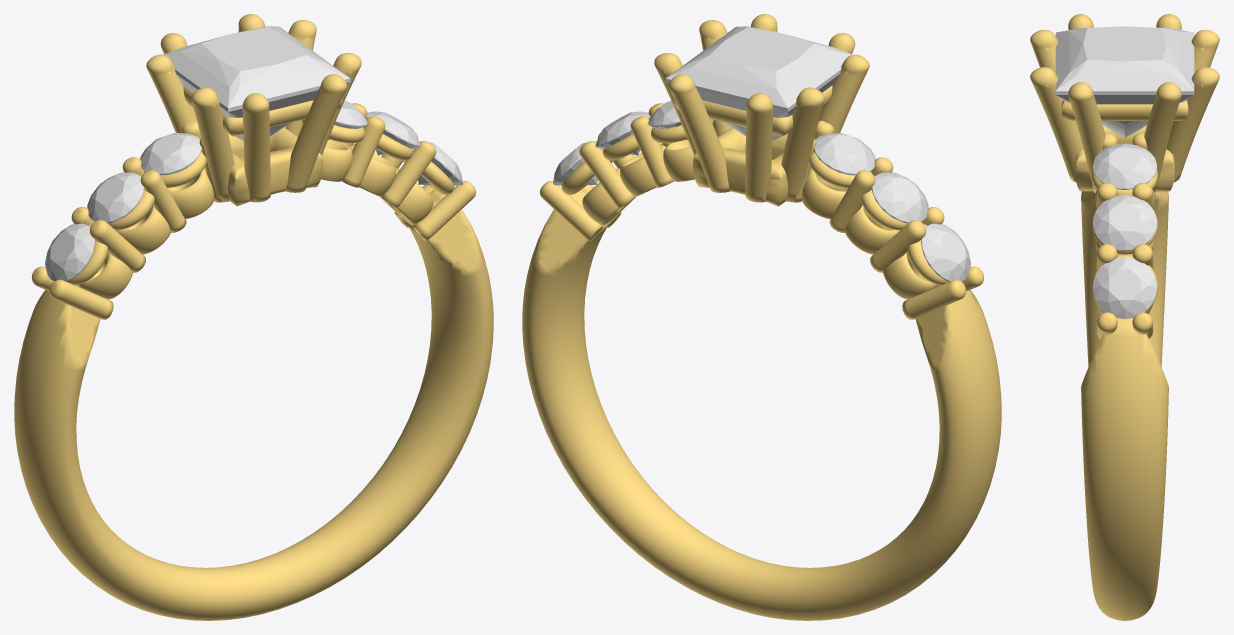
The model's file is diamond-princess-yellowgold-8prong-taperedband-7stone.glb.
3 renders of one model, left to right at view 1: azimuth 30°, elevation 25°; view 2: azimuth 150°, elevation 25°; view 3: azimuth 270°, elevation 25°, orthographic.
Visible parts, largest first — view 1: metal, stone, side, side.001, side.002, side.004, side.005; view 2: metal, stone, side, side.001, side.002, side.004, side.005; view 3: metal, stone, side.005, side.004, side.003.
Boxes of the visible parts, x1=… form: metal: x1=14, y1=14, x2=493, y2=620; stone: x1=163, y1=26, x2=350, y2=140; side: x1=45, y1=223, x2=94, y2=281; side.001: x1=87, y1=172, x2=144, y2=223; side.002: x1=140, y1=133, x2=201, y2=175; side.004: x1=365, y1=111, x2=420, y2=155; side.005: x1=418, y1=141, x2=462, y2=185; metal: x1=522, y1=14, x2=1001, y2=620; stone: x1=665, y1=26, x2=852, y2=140; side: x1=921, y1=223, x2=970, y2=281; side.001: x1=871, y1=172, x2=928, y2=223; side.002: x1=814, y1=133, x2=875, y2=175; side.004: x1=595, y1=111, x2=650, y2=155; side.005: x1=553, y1=141, x2=597, y2=185; metal: x1=1030, y1=14, x2=1219, y2=620; stone: x1=1055, y1=26, x2=1194, y2=137; side.005: x1=1093, y1=256, x2=1156, y2=318; side.004: x1=1093, y1=194, x2=1156, y2=250; side.003: x1=1093, y1=143, x2=1156, y2=189.
Bounding box in the file's own units: 20.5 × 23.85 × 7.42.
